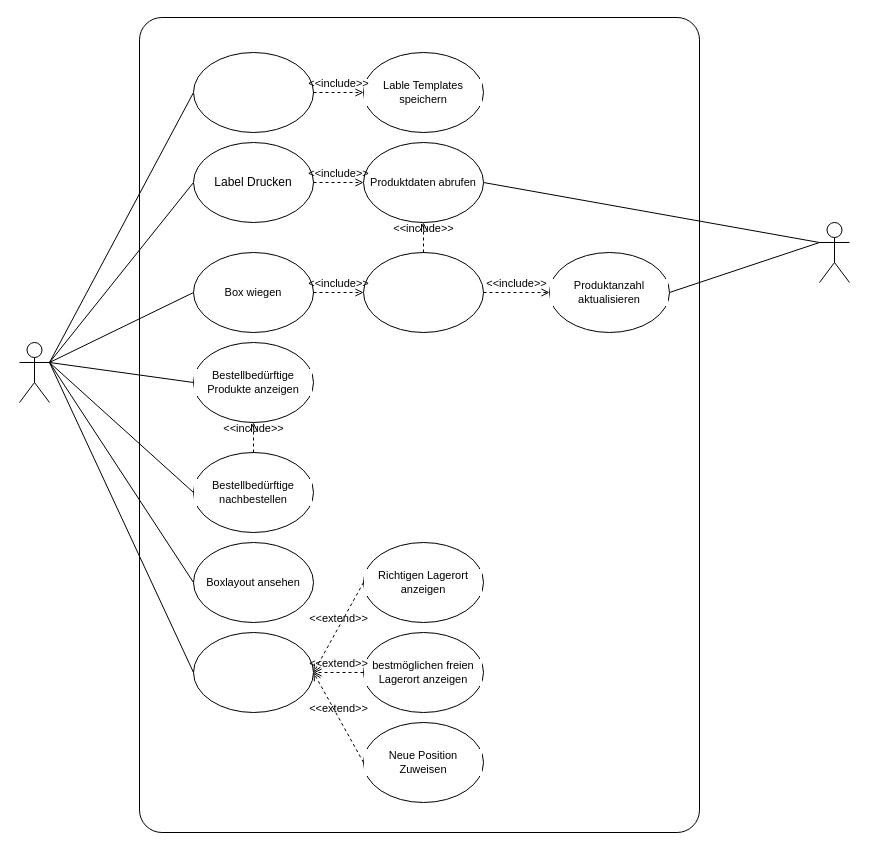
The diagram is 875 pixels wide and 850 high, and some of its shapes have lost their labels. Here are the shapes that lost their labels. From the top down, the centre of each, then its label:
[253,92]: Lable Template erstellen
[834,252]: Inventree
[423,292]: Wiegegewicht berechne
[34,372]: Nutzer
[253,672]: Box scannen
